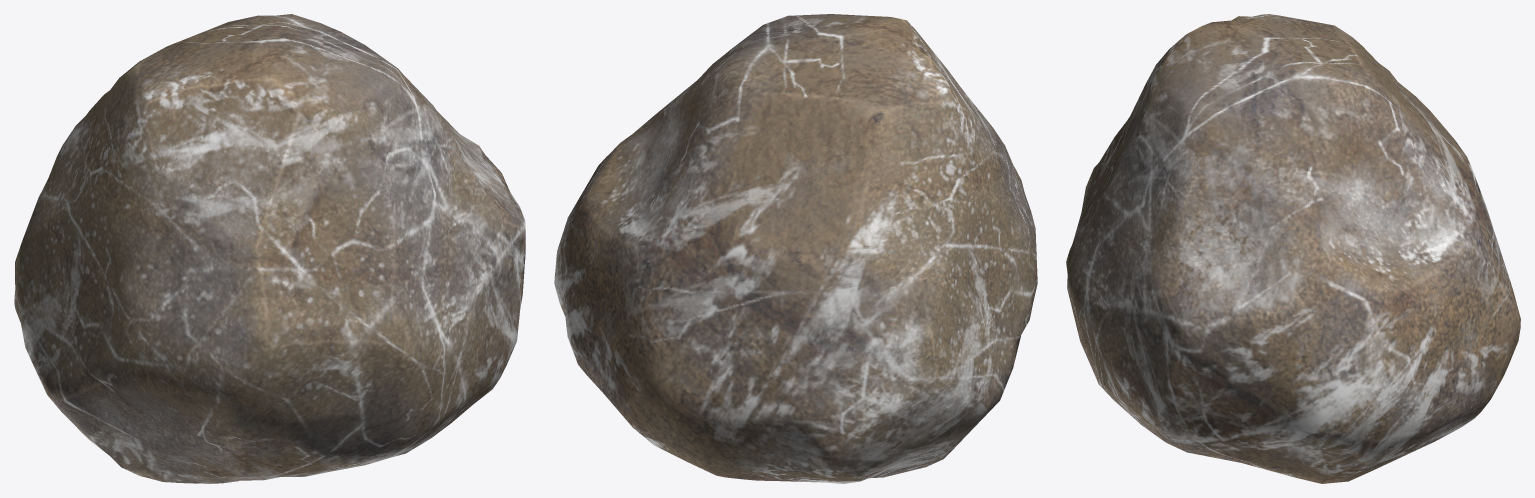
File: SM_MetalNode_2b.fbx
3 renders of one model, left to right at view 1: azimuth 30°, elevation 25°; view 2: azimuth 150°, elevation 25°; view 3: azimuth 270°, elevation 25°, orthographic. The views are drawn at different scales.
Visible parts, largest first — view 1: MetalNode_2b; view 2: MetalNode_2b; view 3: MetalNode_2b.
Boxes of the visible parts, left/top/right/bottom form: MetalNode_2b: left=14, top=14, right=525, bottom=483; MetalNode_2b: left=554, top=14, right=1037, bottom=483; MetalNode_2b: left=1066, top=14, right=1520, bottom=483.
Size of the model in its own units: 0.8634 by 0.8015 by 0.8324.
